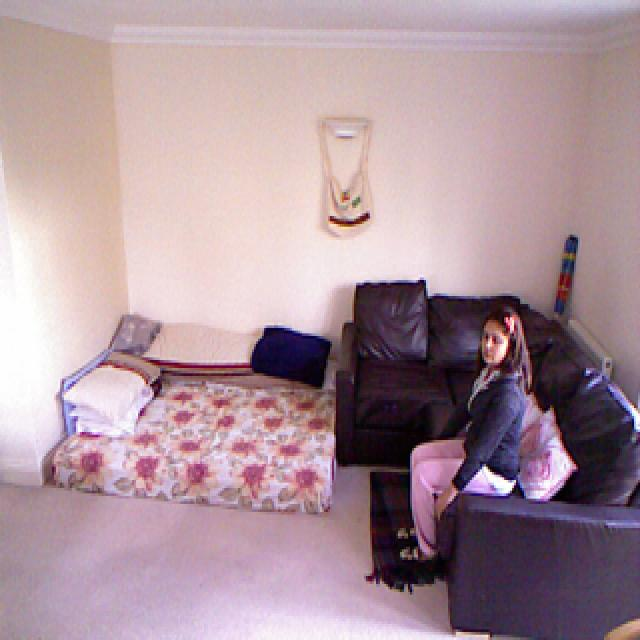sitting: (396, 308, 532, 571)
